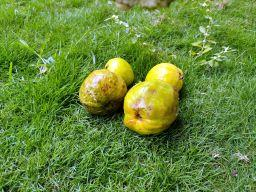guava: (120, 79, 180, 135), (74, 67, 130, 115), (143, 60, 185, 95), (103, 56, 136, 86)
